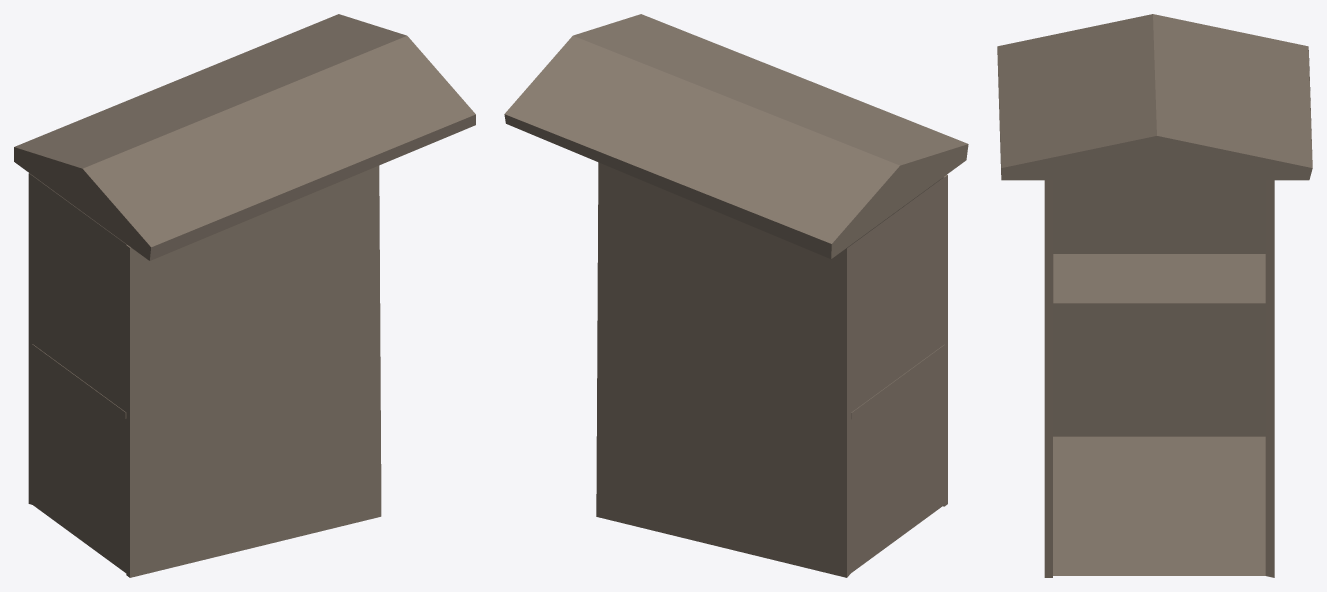
The model's file is Cabin.fbx.
The picture shows the model from 3 angles, left to right: view 1: azimuth 30°, elevation 25°; view 2: azimuth 150°, elevation 25°; view 3: azimuth 270°, elevation 25°; orthographic projection. The views are drawn at different scales.
Parts seen in each view (by area): view 1: Cube; view 2: Cube; view 3: Cube.
Boxes of the visible parts, left/top/right/bottom form: Cube: left=14, top=14, right=475, bottom=577; Cube: left=504, top=14, right=968, bottom=577; Cube: left=997, top=14, right=1312, bottom=577.
Bounding box in the file's own units: 357 × 445 × 263.
